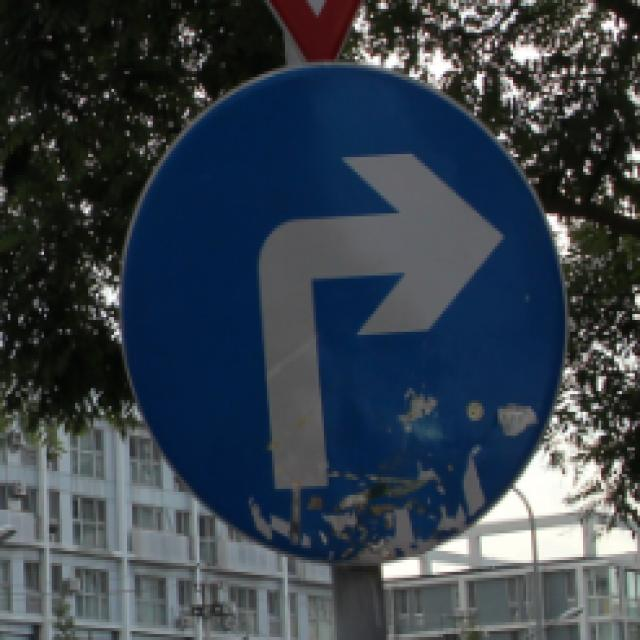Right: (126, 65, 571, 568)
